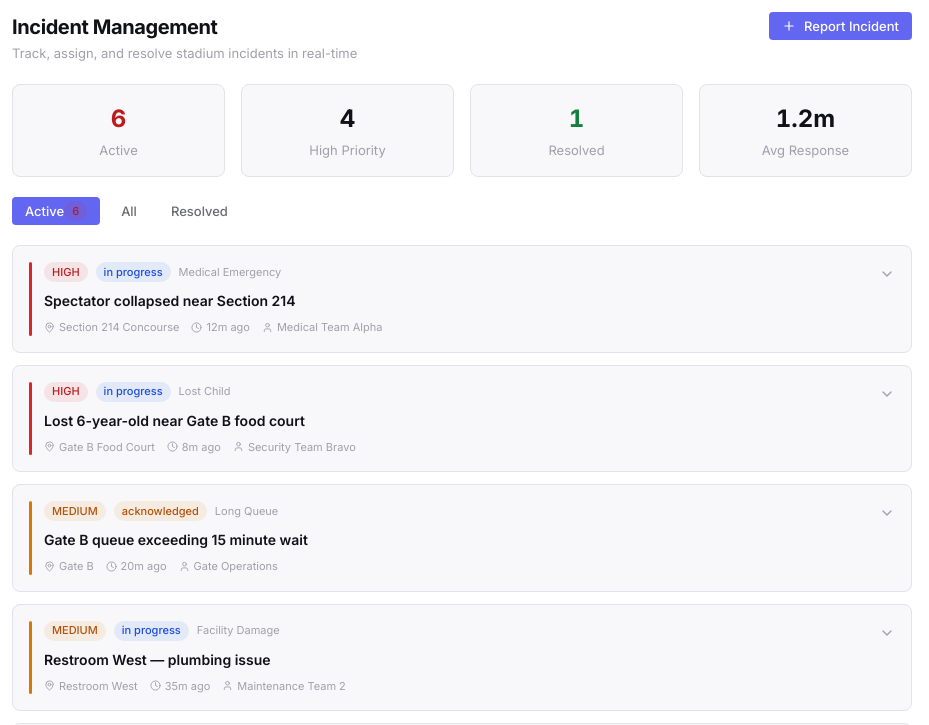
Incident Management Panel › can filter incidents by status
This screenshot has width=929, height=725.
# Change filter to Resolved
Click the button "Resolved": (199, 211) [158,197,241,225]
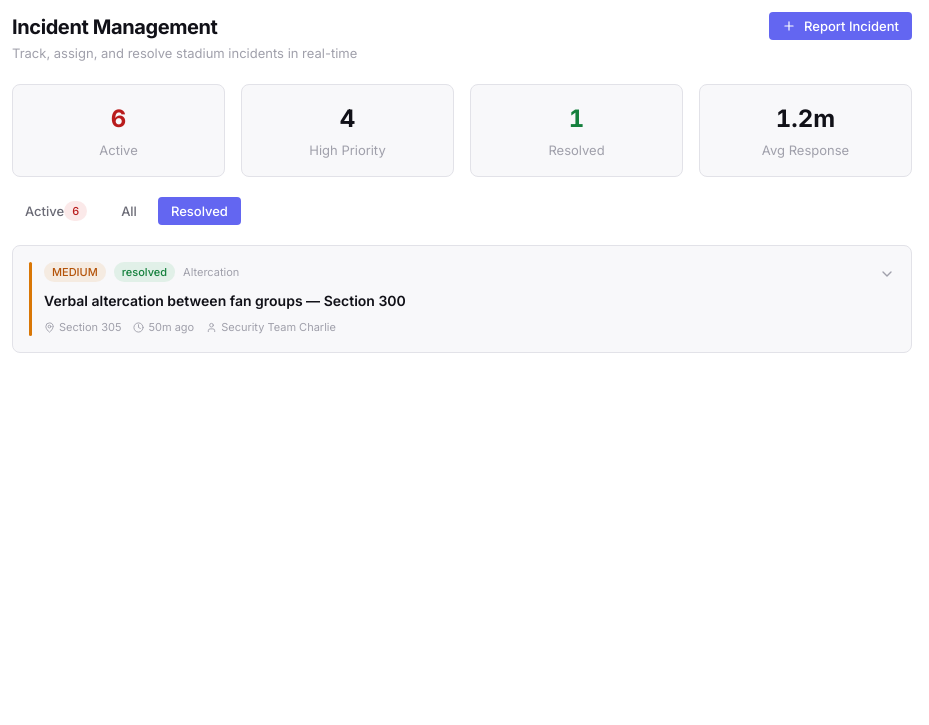
Expected: no buttons "in progress" are shown
